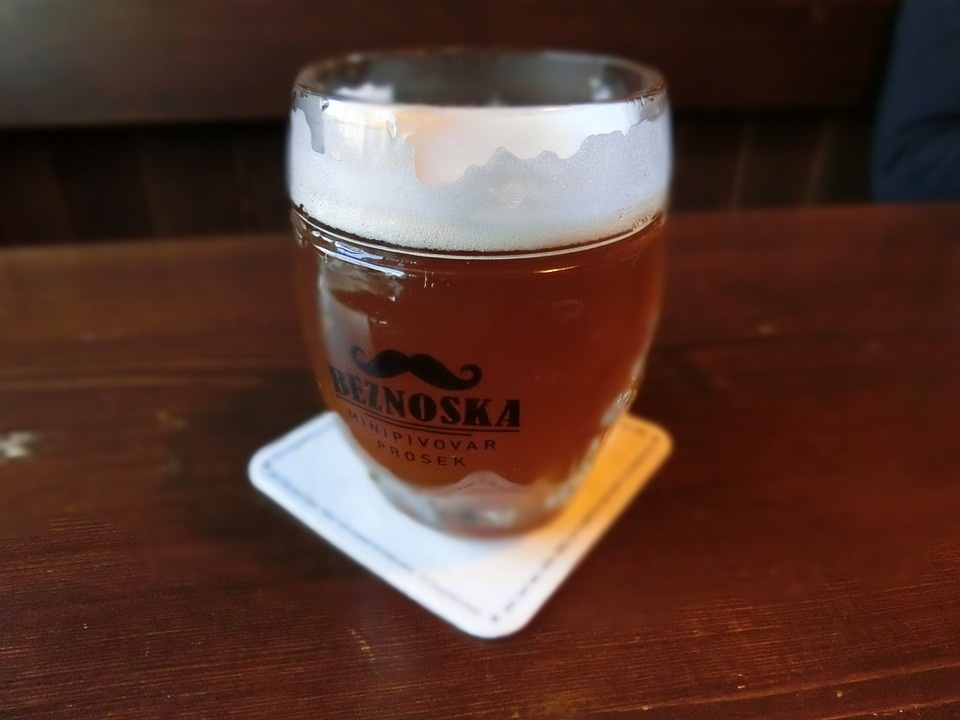glassBeer: (300, 43, 695, 538)
